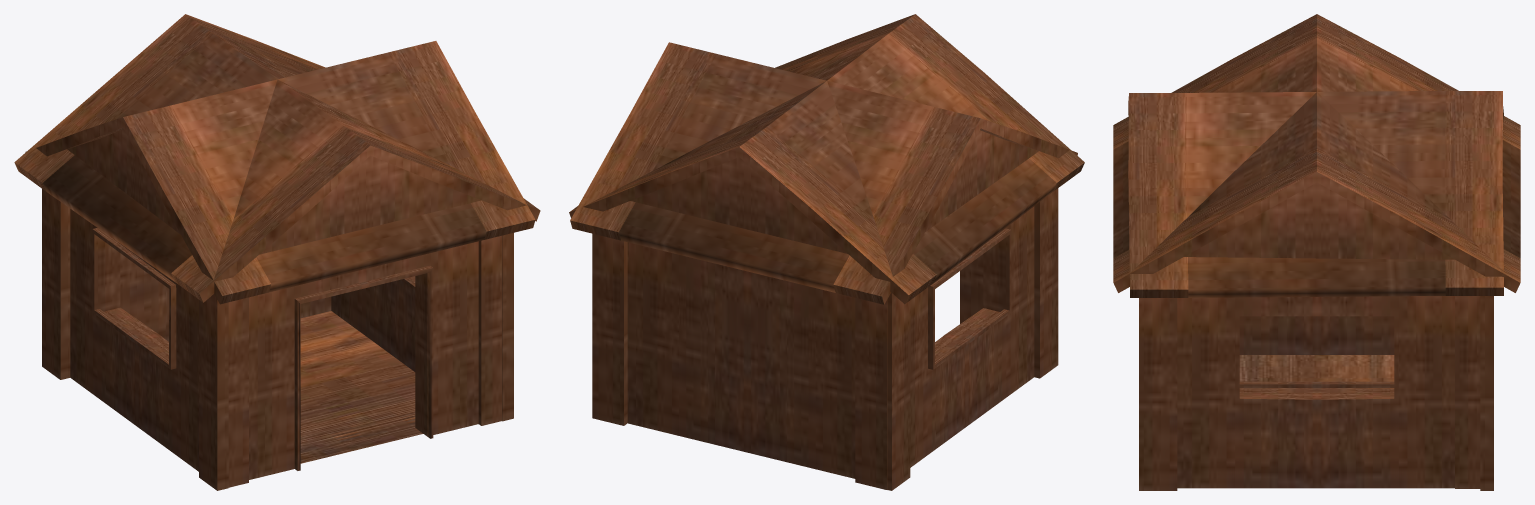
The model's file is Cabin_Hut.fbx.
3 views of the same model, side by side, from view 1: azimuth 30°, elevation 25°; view 2: azimuth 150°, elevation 25°; view 3: azimuth 270°, elevation 25° (orthographic). The views are drawn at different scales.
Visible parts, largest first — view 1: CabinDoor; view 2: CabinDoor; view 3: CabinDoor.
Part boxes in pixels (x1,y1,x2,y2): CabinDoor: (14,14,540,490); CabinDoor: (569,14,1084,490); CabinDoor: (1113,14,1520,490).
Size of the model in its own units: 1613 by 1397 by 1594.
